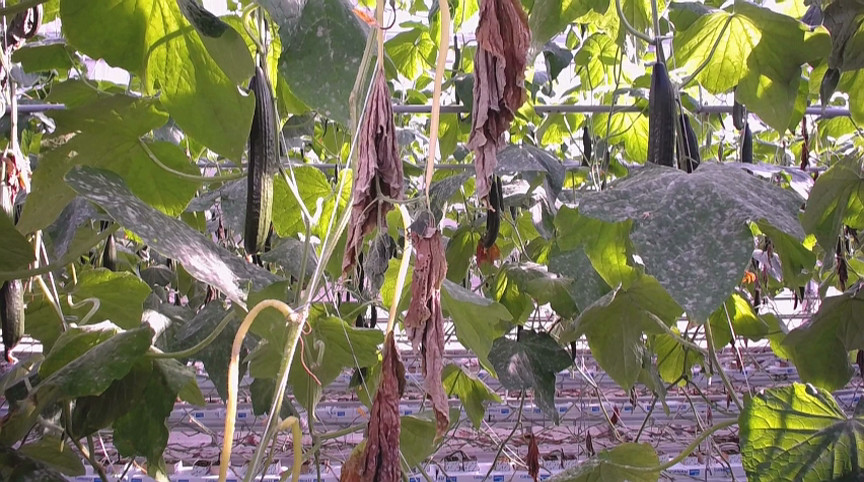cucumber: (243, 68, 278, 254), (648, 59, 678, 167), (1, 278, 26, 351)
